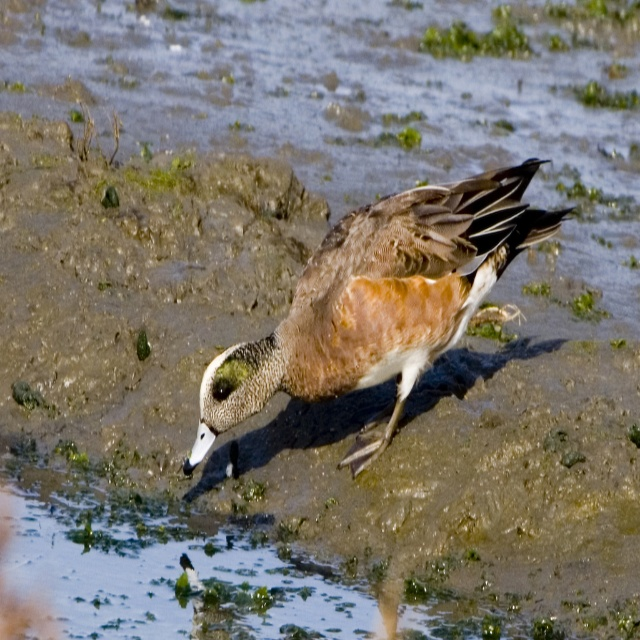Duck: (185, 137, 590, 491)
